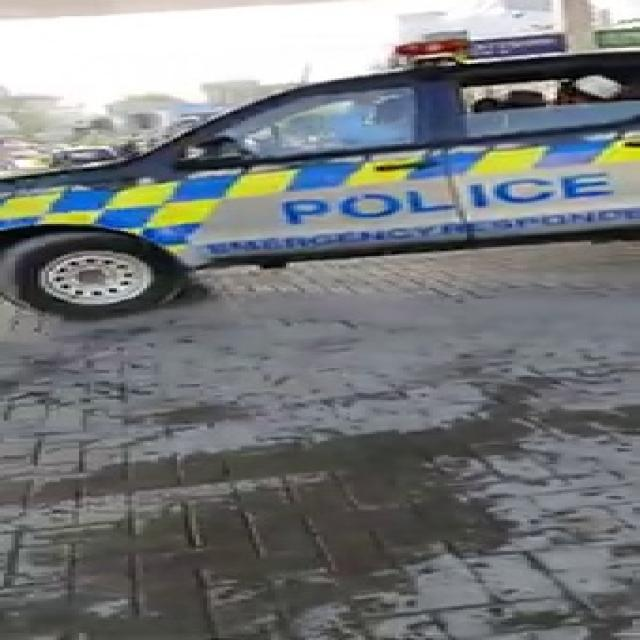police: (0, 7, 639, 294)
